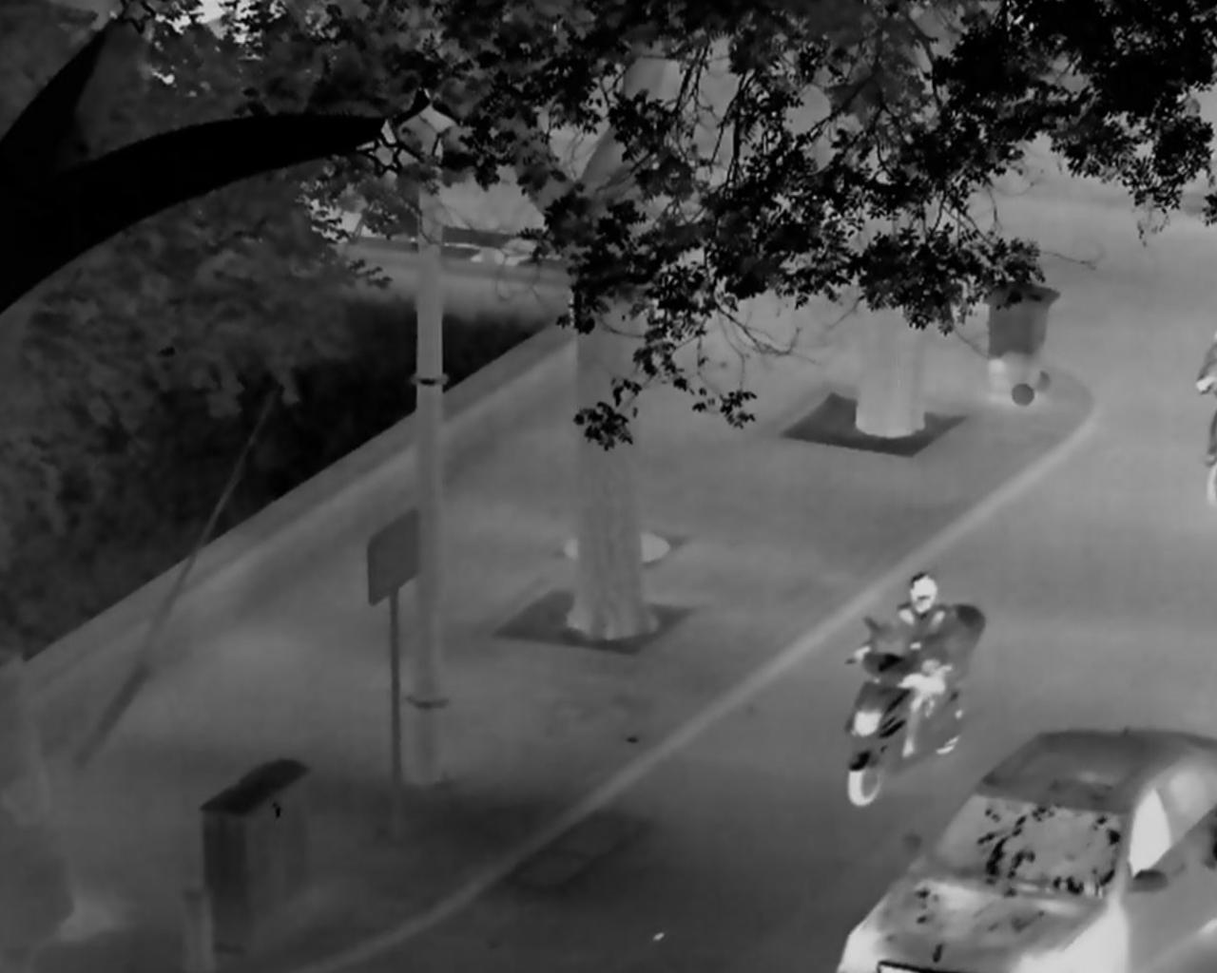person: (847, 571, 953, 761)
